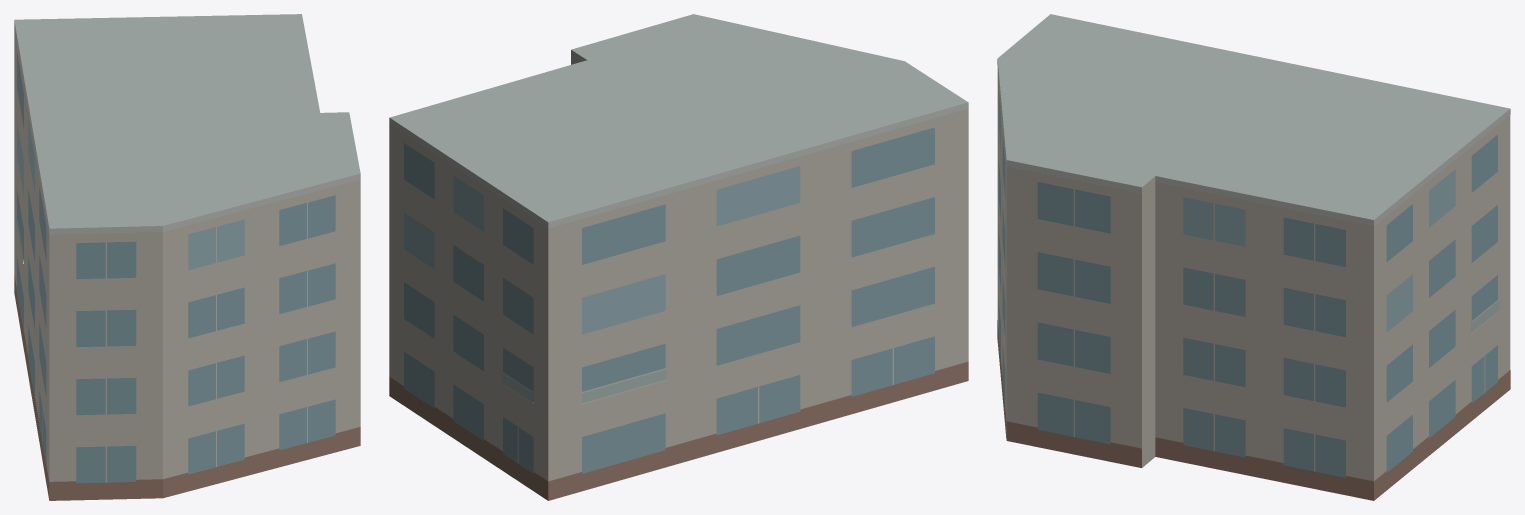
The model's file is survey-upis-32533184.glb.
3 views of the same model, side by side, from view 1: azimuth 30°, elevation 25°; view 2: azimuth 150°, elevation 25°; view 3: azimuth 270°, elevation 25° (orthographic). The views are drawn at different scales.
Visible parts, largest first — view 1: survey-upis-32533184.tmp; view 2: survey-upis-32533184.tmp; view 3: survey-upis-32533184.tmp.
Boxes of the visible parts, box(x1,y1,x2,y2) form: survey-upis-32533184.tmp: box(14, 14, 360, 500); survey-upis-32533184.tmp: box(389, 14, 968, 500); survey-upis-32533184.tmp: box(997, 14, 1510, 500).
Size of the model in its own units: 17.55 by 11.15 by 18.46.
